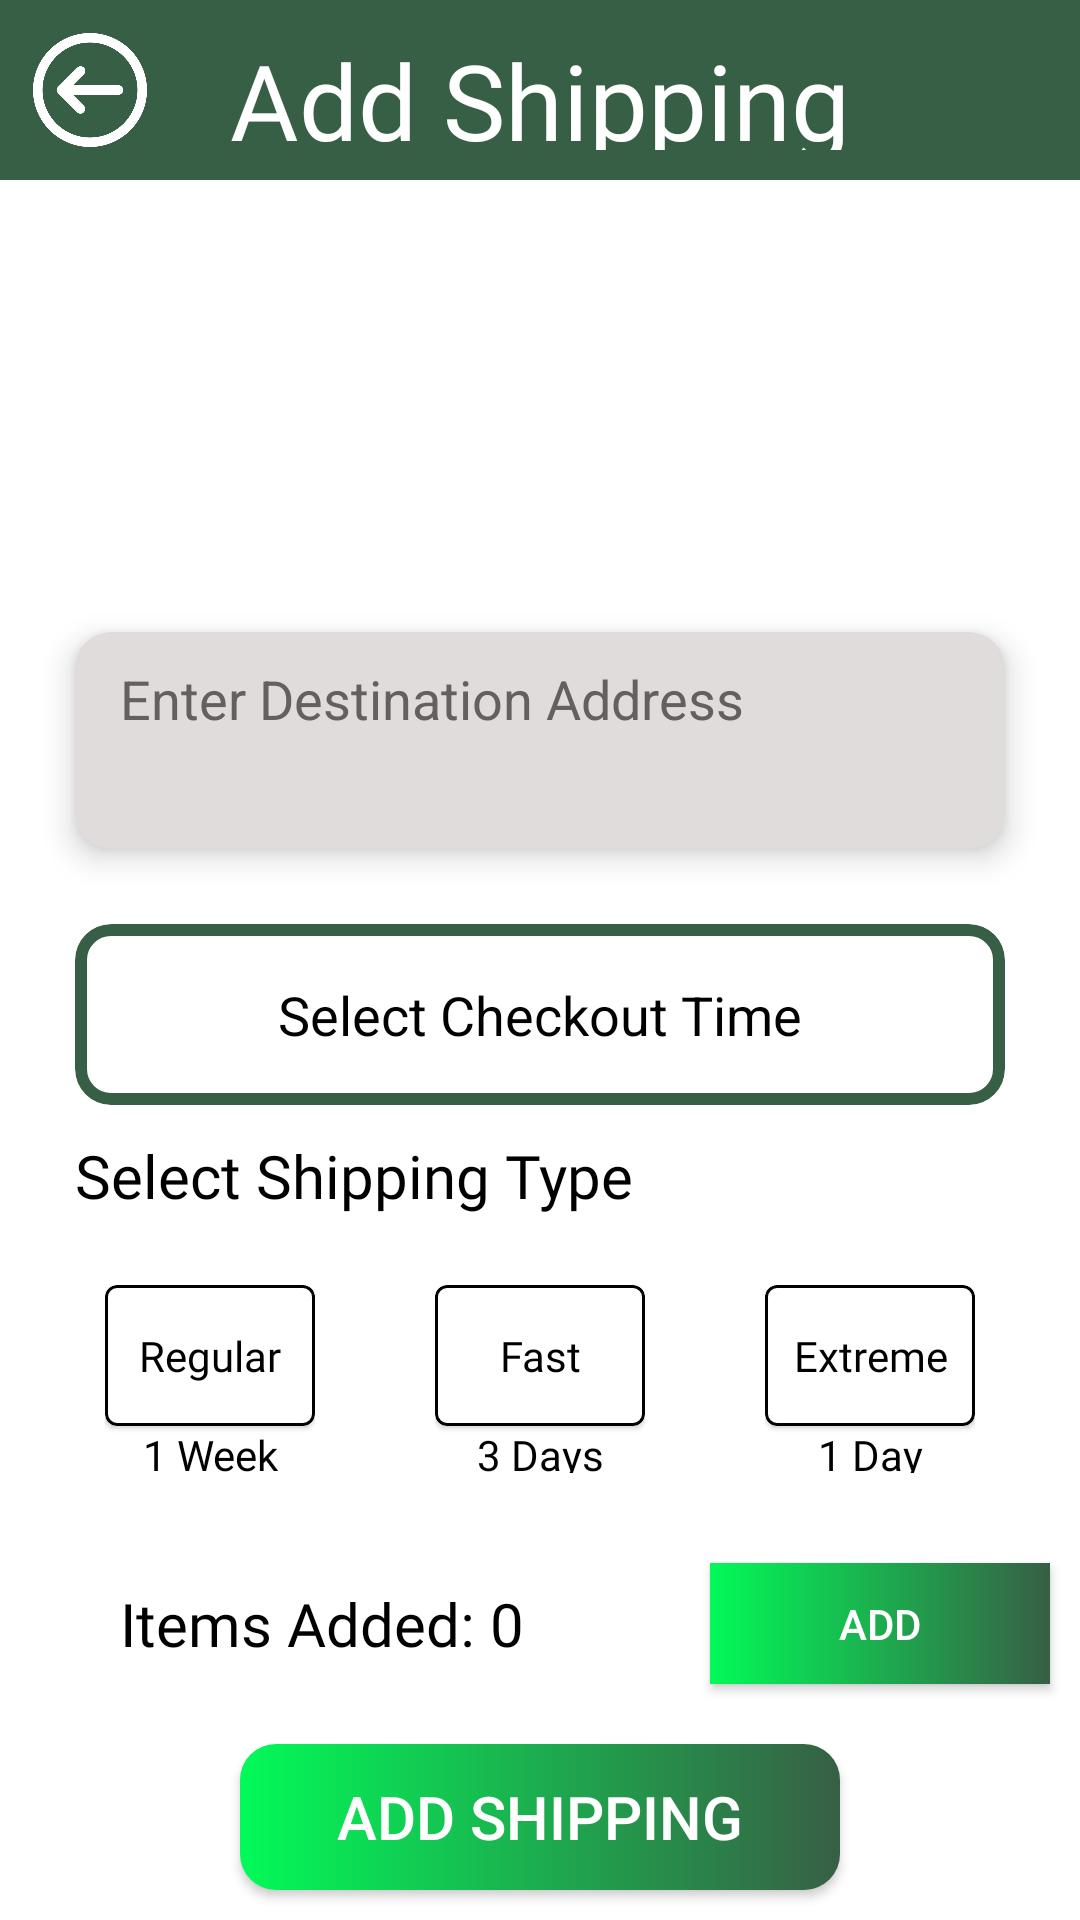

Point at icon controls on the screen. Image size 1080w x 1920h, points as (x,y).
back: (90,90)
